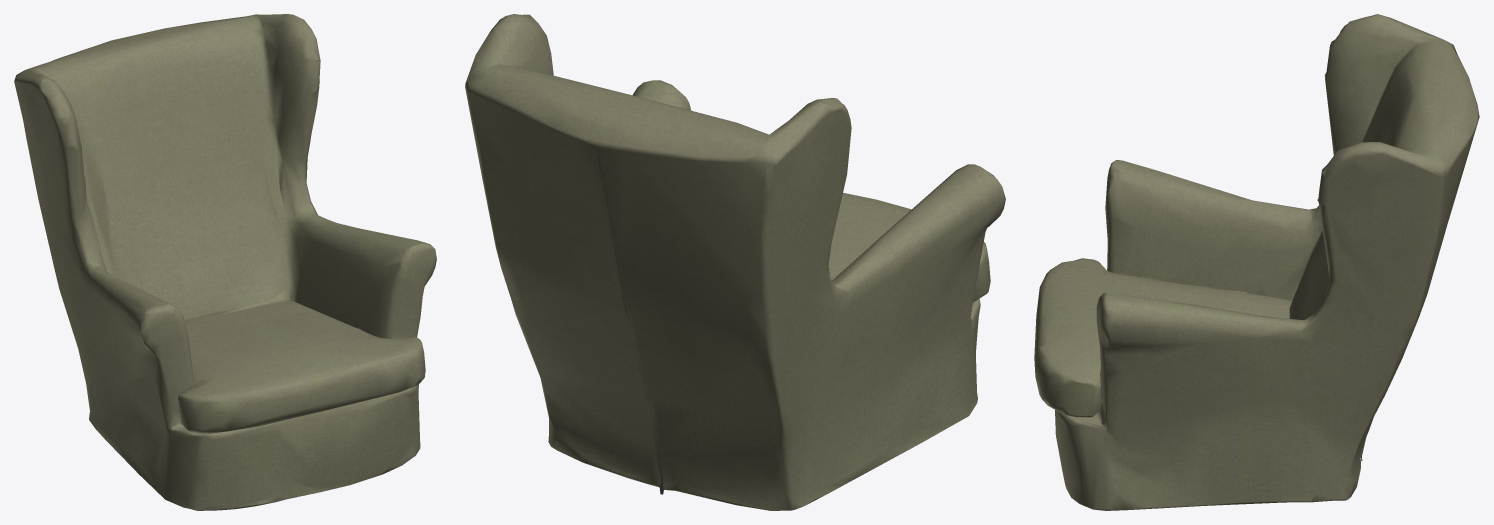
Rendered from strandmon_pokrowiec_na_fotel_uszak_00632852.glb.
3 renders of one model, left to right at view 1: azimuth 30°, elevation 25°; view 2: azimuth 150°, elevation 25°; view 3: azimuth 270°, elevation 25°, orthographic. The views are drawn at different scales.
Visible parts, largest first — view 1: strandmon_pokrowiec_na_fotel_uszak_00632852; view 2: strandmon_pokrowiec_na_fotel_uszak_00632852; view 3: strandmon_pokrowiec_na_fotel_uszak_00632852.
Boxes of the visible parts, <box> form: strandmon_pokrowiec_na_fotel_uszak_00632852: <box>14,14,436,510</box>; strandmon_pokrowiec_na_fotel_uszak_00632852: <box>465,14,1005,510</box>; strandmon_pokrowiec_na_fotel_uszak_00632852: <box>1034,14,1479,510</box>.
Bounding box in the file's own units: 0.8355 × 0.9486 × 1.01.
1 material, 1 textured.
